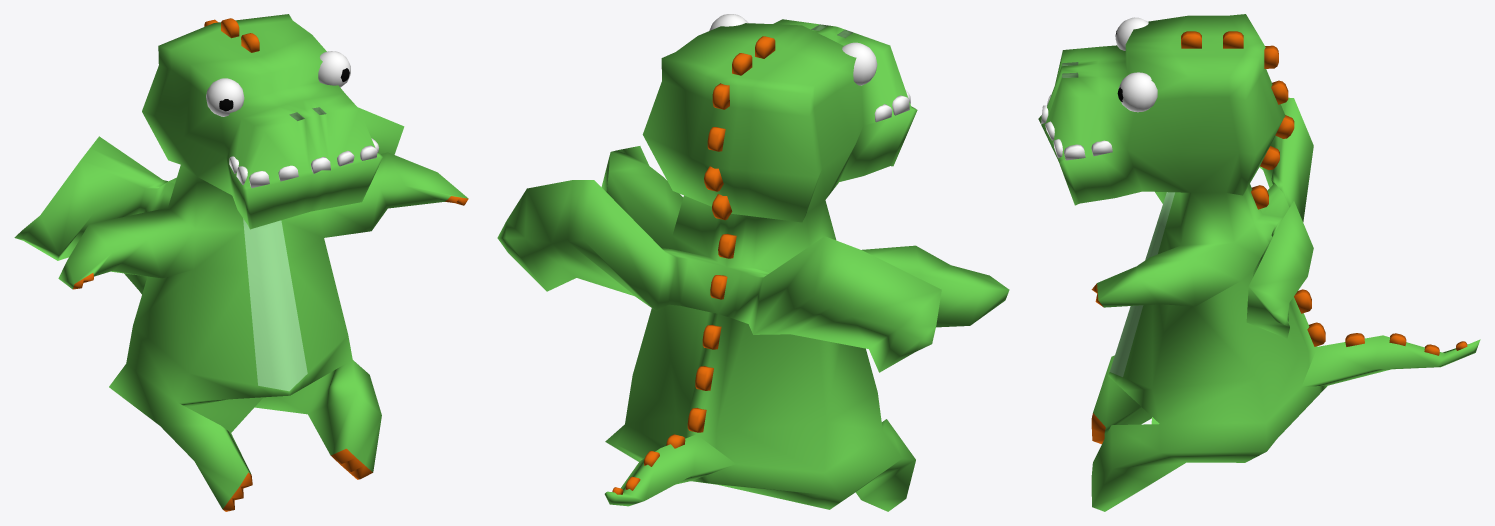
Rendered from dino.glb.
3 renders of one model, left to right at view 1: azimuth 30°, elevation 25°; view 2: azimuth 150°, elevation 25°; view 3: azimuth 270°, elevation 25°, orthographic. The views are drawn at different scales.
Visible parts, largest first — view 1: Dino; view 2: Dino; view 3: Dino.
Part boxes in pixels (bbox=[...]): Dino: bbox=[14, 14, 468, 511]; Dino: bbox=[497, 14, 1009, 511]; Dino: bbox=[1038, 14, 1480, 511].
Size of the model in its own units: 4.34 by 4.63 by 4.16.
